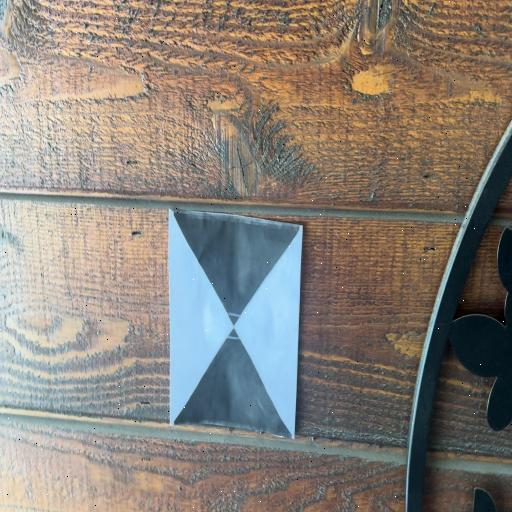target: (169, 210, 301, 439)
